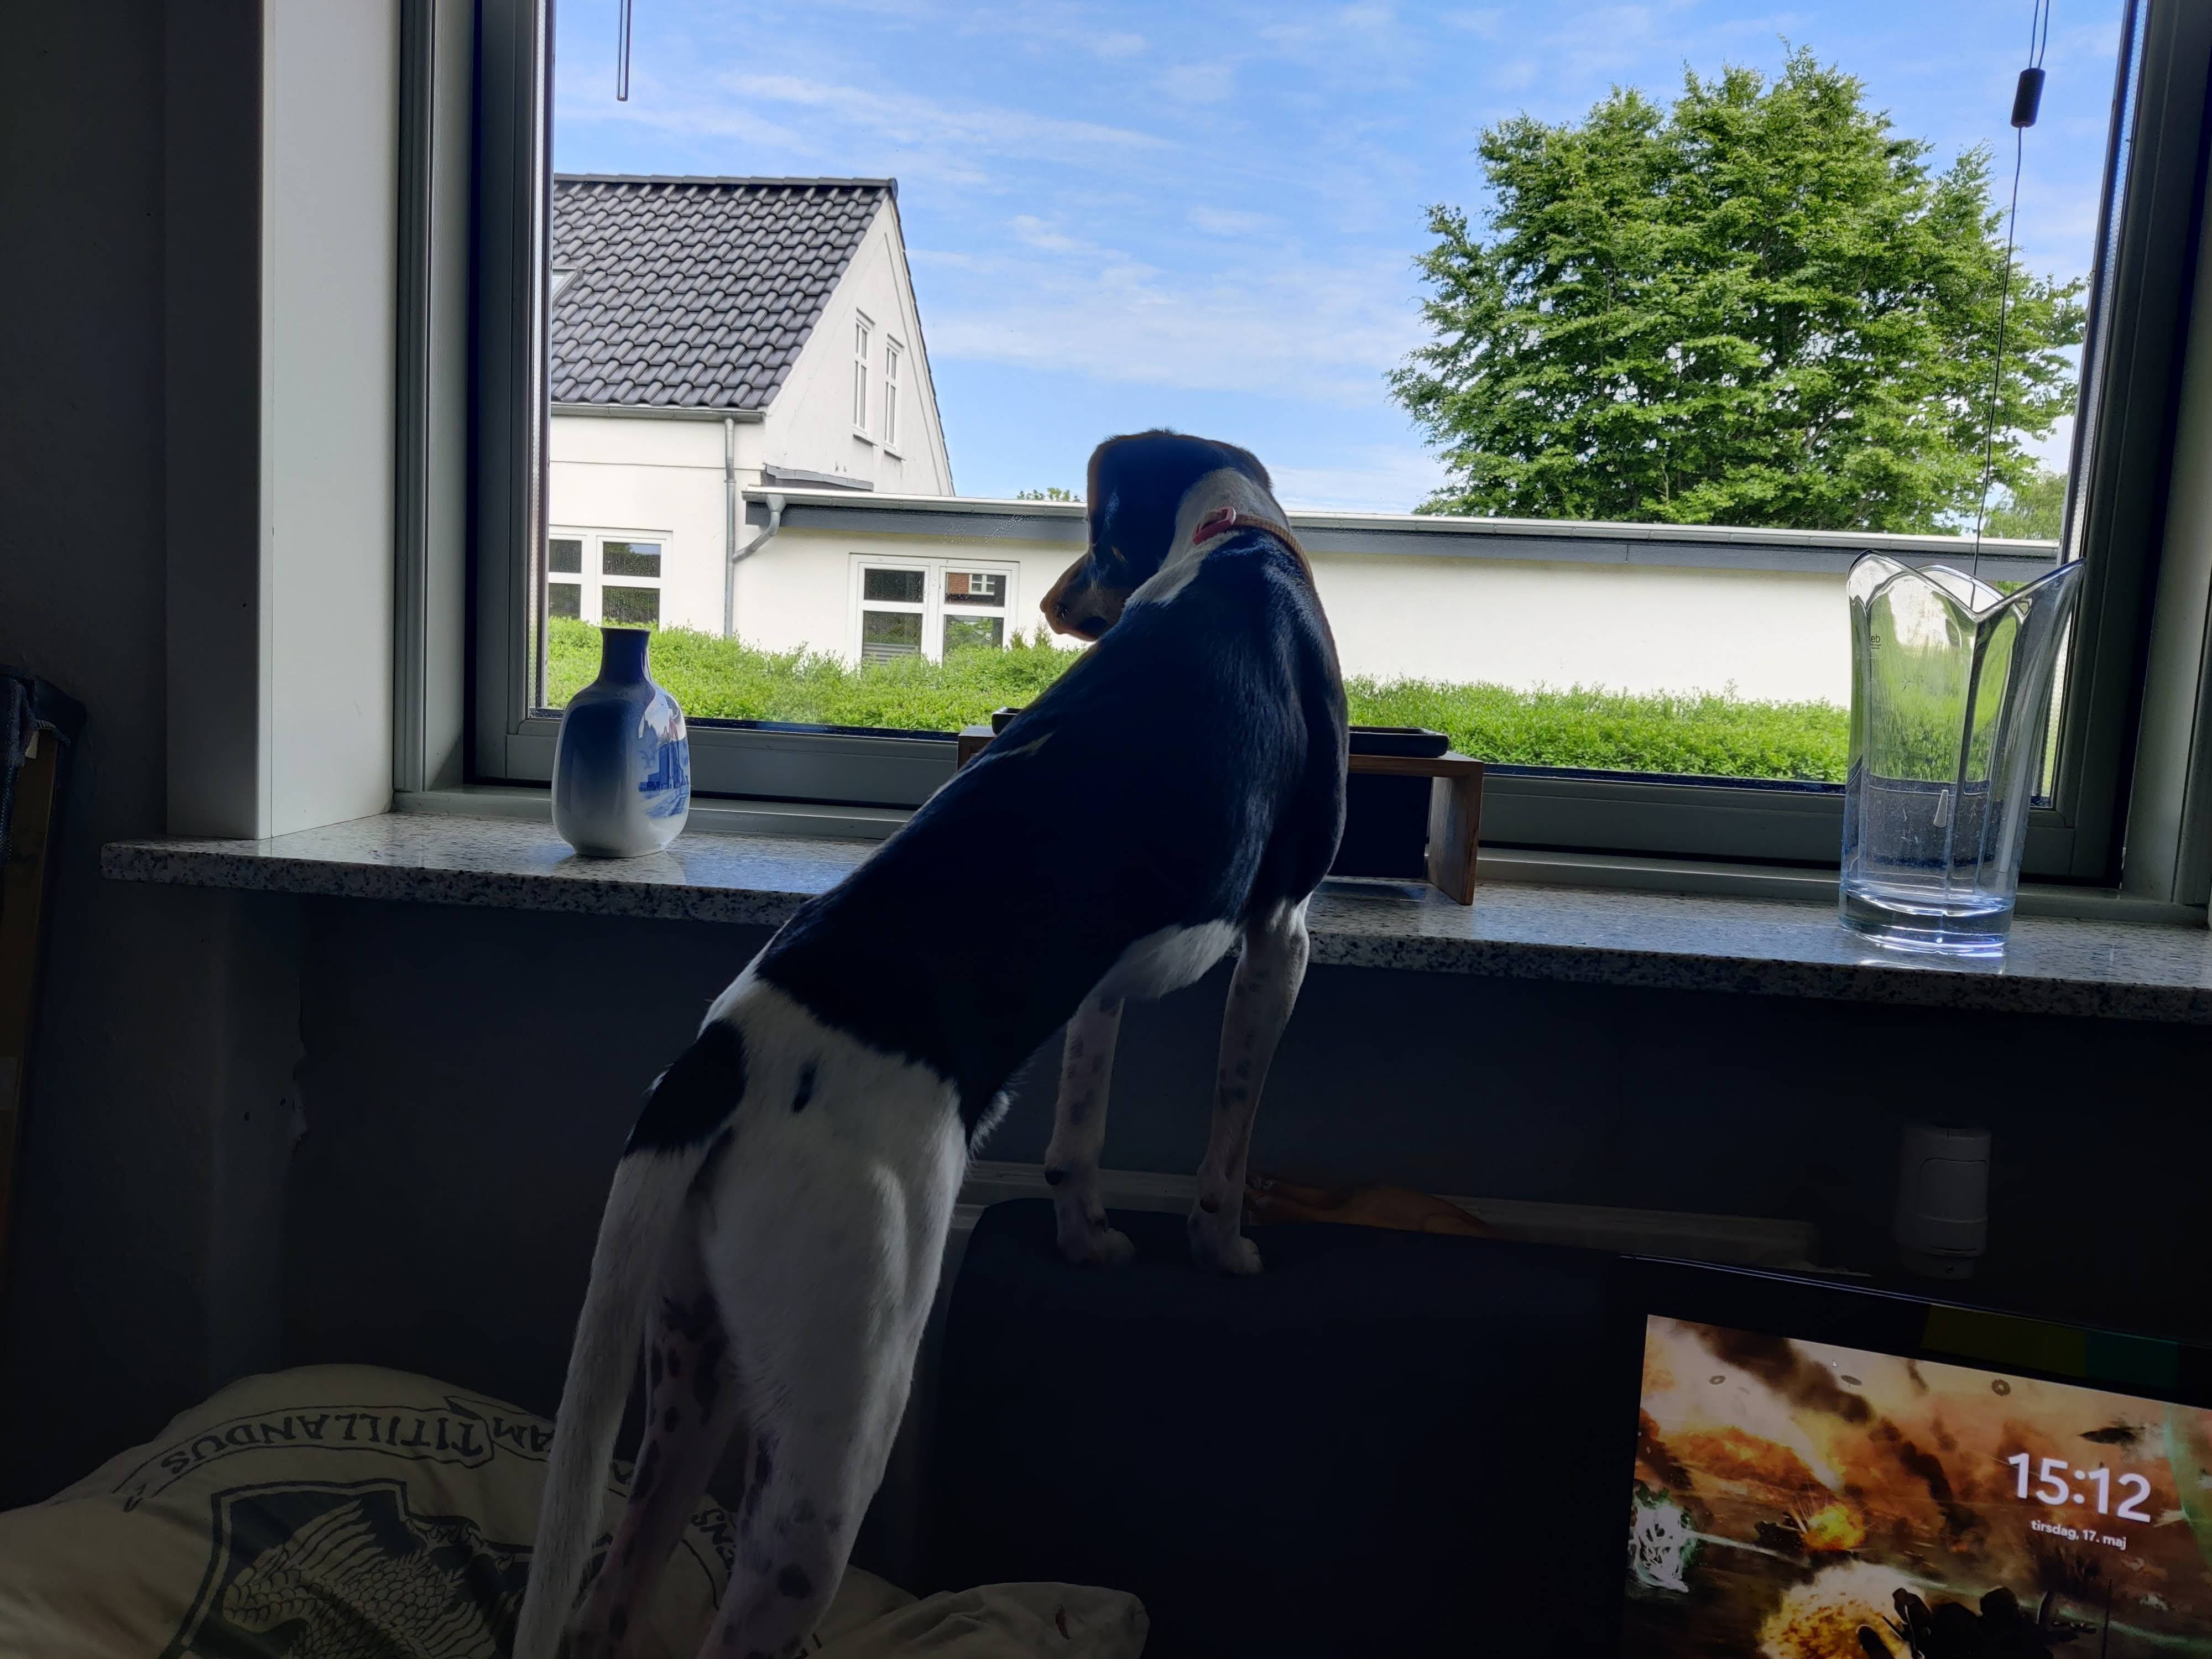Dog: (479, 422, 1355, 1659)
